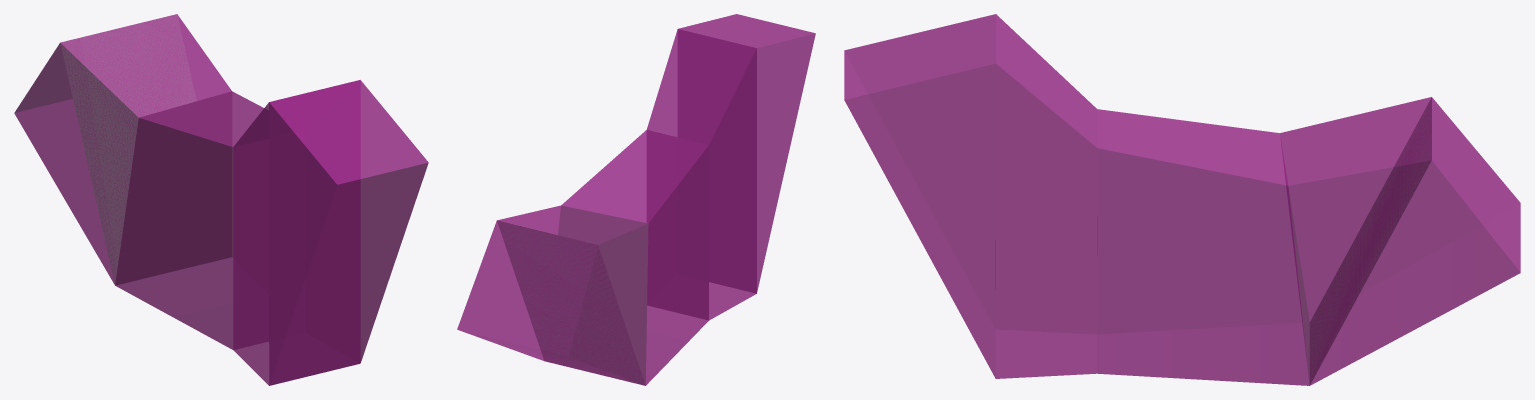
Rendered from SM_Veh_Motorbike_01_Collision.fbx.
3 renders of one model, left to right at view 1: azimuth 30°, elevation 25°; view 2: azimuth 150°, elevation 25°; view 3: azimuth 270°, elevation 25°, orthographic. The views are drawn at different scales.
Parts seen in each view (by area): view 1: SM_Veh_Motorbike_01_Collision; view 2: SM_Veh_Motorbike_01_Collision; view 3: SM_Veh_Motorbike_01_Collision.
Part boxes in pixels (bbox=[...]): SM_Veh_Motorbike_01_Collision: bbox=[14, 14, 428, 385]; SM_Veh_Motorbike_01_Collision: bbox=[457, 14, 815, 385]; SM_Veh_Motorbike_01_Collision: bbox=[844, 14, 1520, 385].
Size of the model in its own units: 52.58 by 110 by 215.
